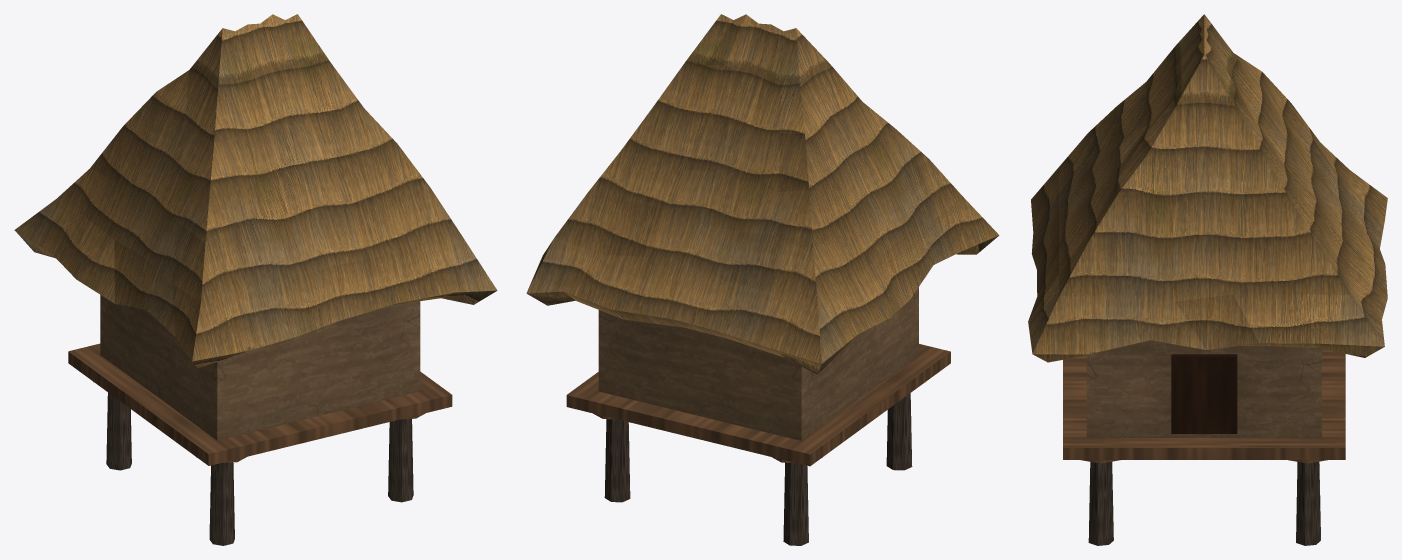
File: granaio_su_pali.glb
3 renders of one model, left to right at view 1: azimuth 30°, elevation 25°; view 2: azimuth 150°, elevation 25°; view 3: azimuth 270°, elevation 25°, orthographic.
Visible parts, largest first — view 1: granaio_su_pali; view 2: granaio_su_pali; view 3: granaio_su_pali.
Boxes of the visible parts, left/top/right/bottom form: granaio_su_pali: left=14, top=14, right=497, bottom=545; granaio_su_pali: left=526, top=14, right=999, bottom=545; granaio_su_pali: left=1028, top=14, right=1387, bottom=545.
Bounding box in the file's own units: 3.89 × 5.46 × 3.82.
Materials: 5 (5 with a texture image).
